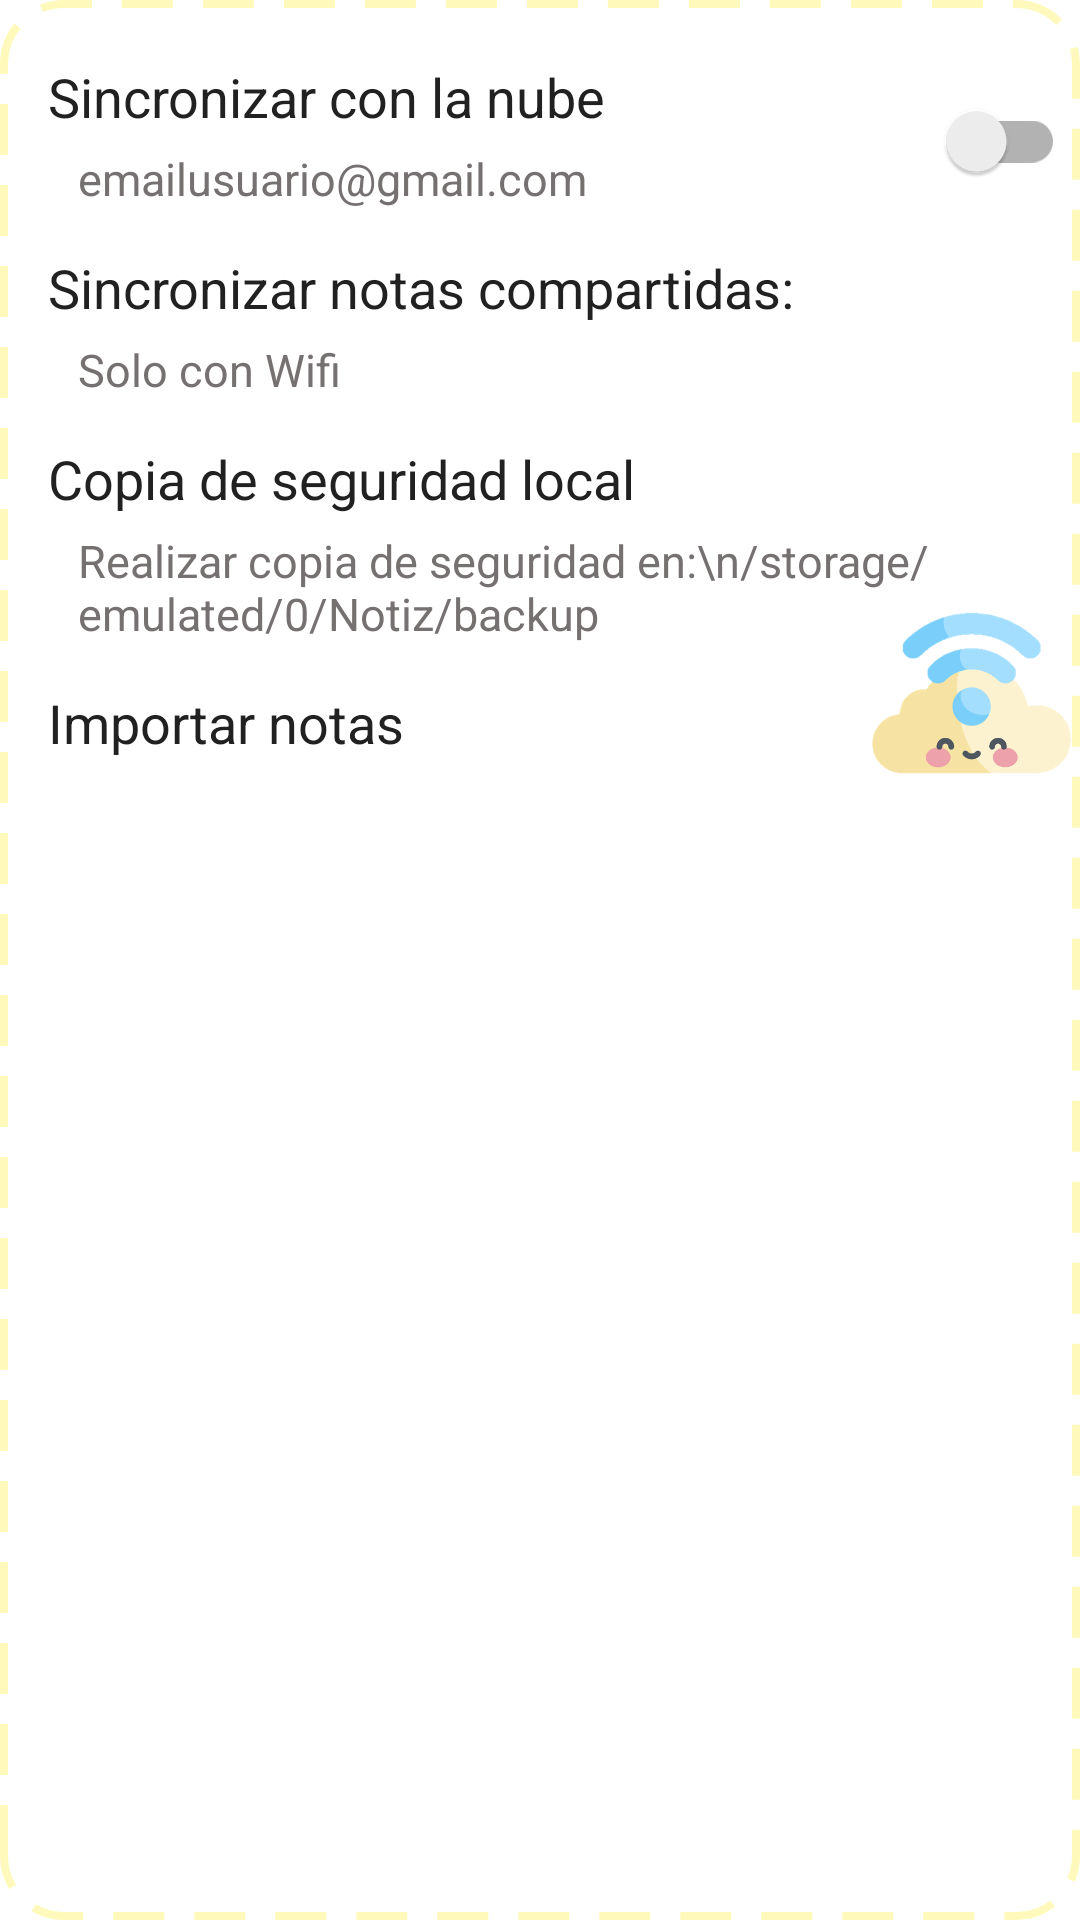

Named icons in this screenshot (1080 × 1920) and their bounding boxes, (x1=x1, y1=y1, x2=x2, y2=y2):
Nube internet: (x1=872, y1=613, x2=1071, y2=773)
